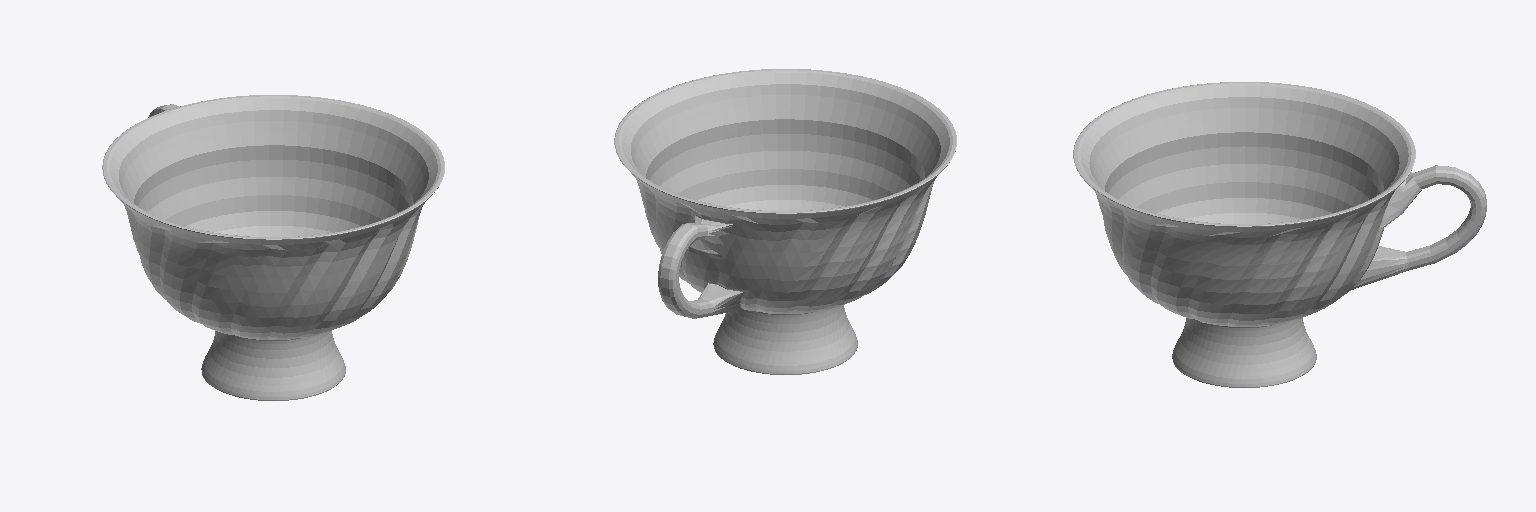
File: Cup.obj
The picture shows the model from 3 angles: view 1: azimuth 30°, elevation 25°; view 2: azimuth 150°, elevation 25°; view 3: azimuth 270°, elevation 25°; orthographic projection.
Parts seen in each view (by area): view 1: Cup_Circle.004; view 2: Cup_Circle.004; view 3: Cup_Circle.004.
Part boxes in pixels (left/top/right/bottom): Cup_Circle.004: left=102, top=95, right=444, bottom=400; Cup_Circle.004: left=614, top=69, right=956, bottom=374; Cup_Circle.004: left=1073, top=82, right=1486, bottom=387.
Size of the model in its own units: 0.0989 by 0.065 by 0.1193.